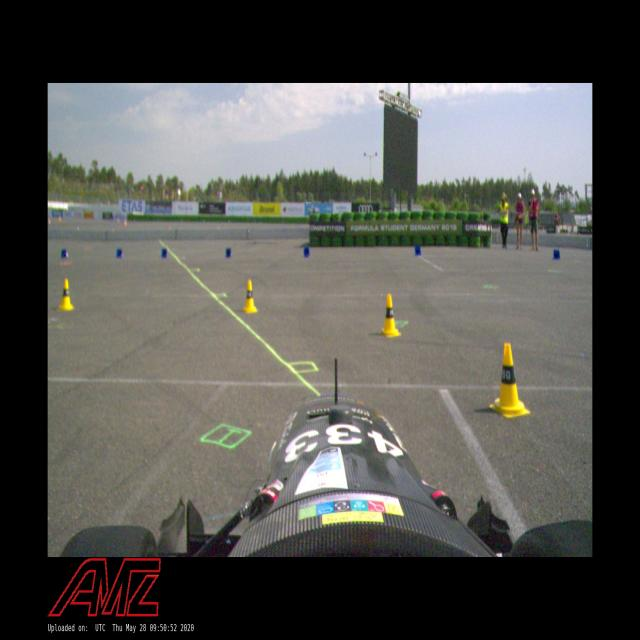yellow_cone: (489, 342, 531, 419), (379, 293, 402, 338), (57, 276, 75, 312), (241, 280, 258, 314)
